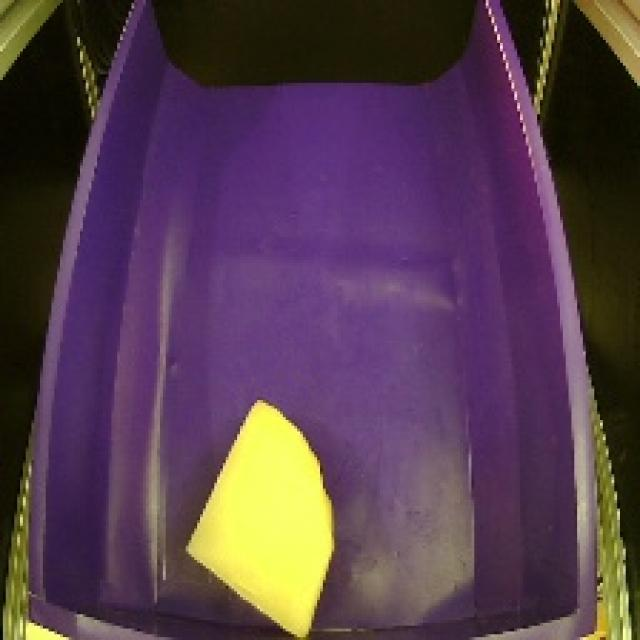potato: (171, 390, 341, 640)
